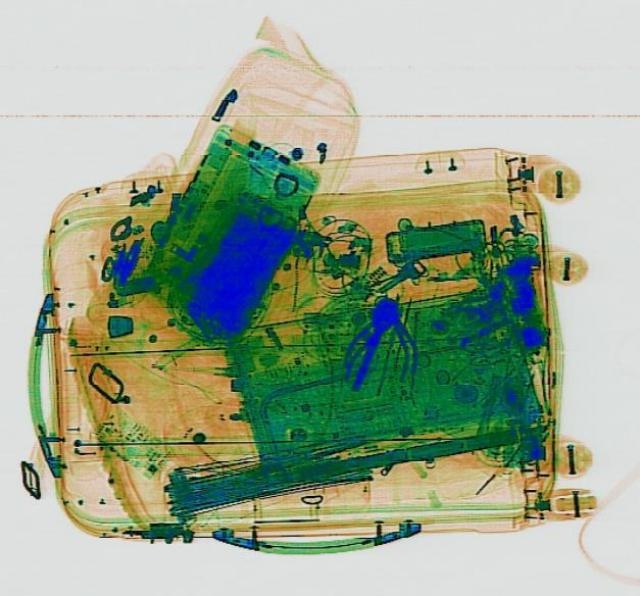Pliers: (334, 300, 421, 389), (342, 306, 420, 383)
